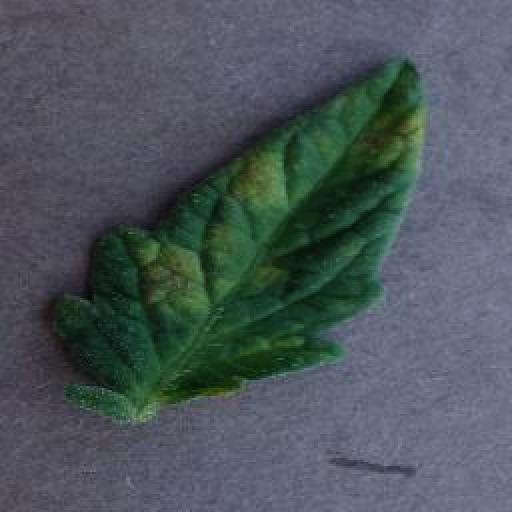disease_tomato: (55, 56, 427, 422)
